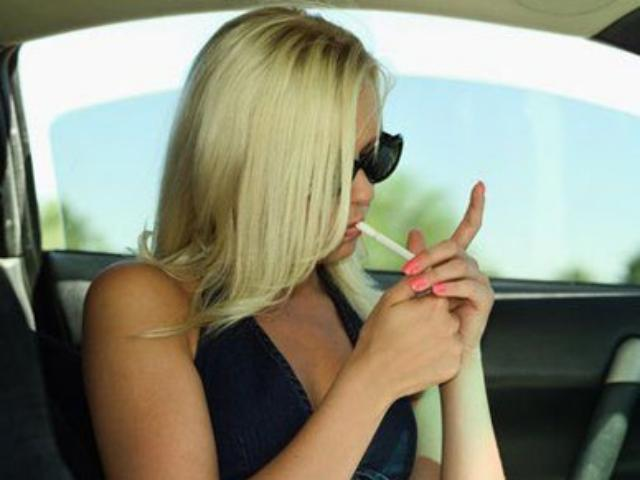Cigarette: (356, 222, 416, 258)
